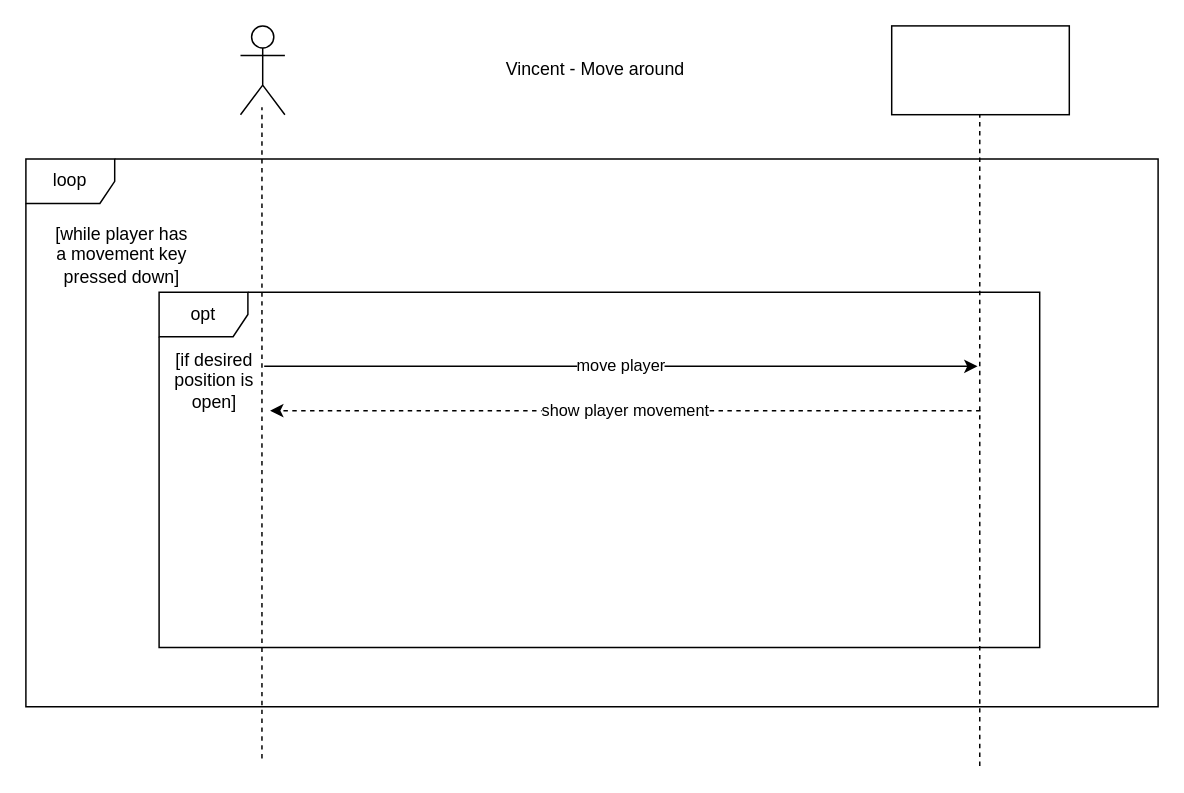
This 1184x793 diagram has some shape labels left out. Here are the shapes that lost their labels. From the top down, the centre of each, then its label:
At pixel 262 69: "Player".
At pixel 979 69: "System".
